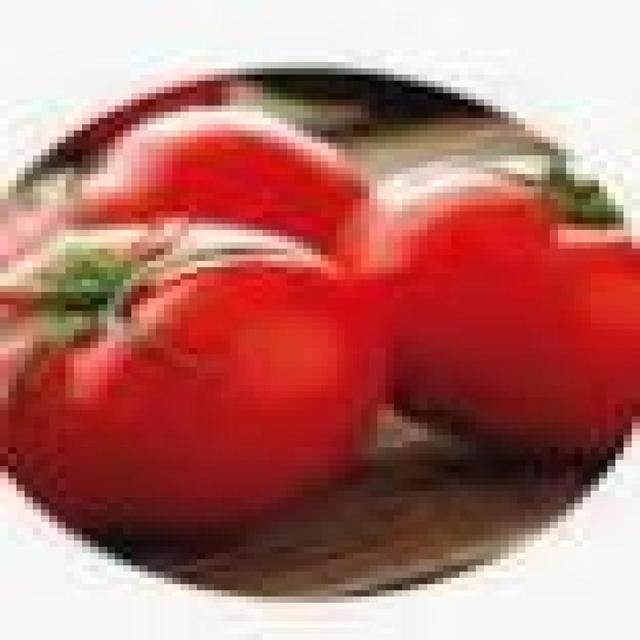Healthy Fruit: (139, 123, 341, 229)
